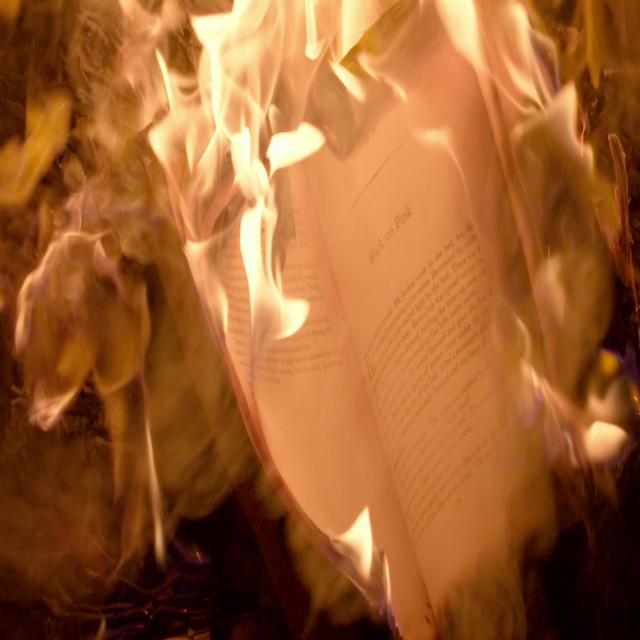Fire: (225, 87, 319, 352), (515, 339, 640, 519), (472, 0, 585, 177), (190, 0, 266, 200), (329, 0, 429, 125), (149, 53, 228, 205), (182, 200, 249, 375), (433, 0, 506, 155), (275, 0, 346, 132), (335, 0, 421, 59), (340, 504, 382, 606)
Smoke: (104, 263, 258, 601)
